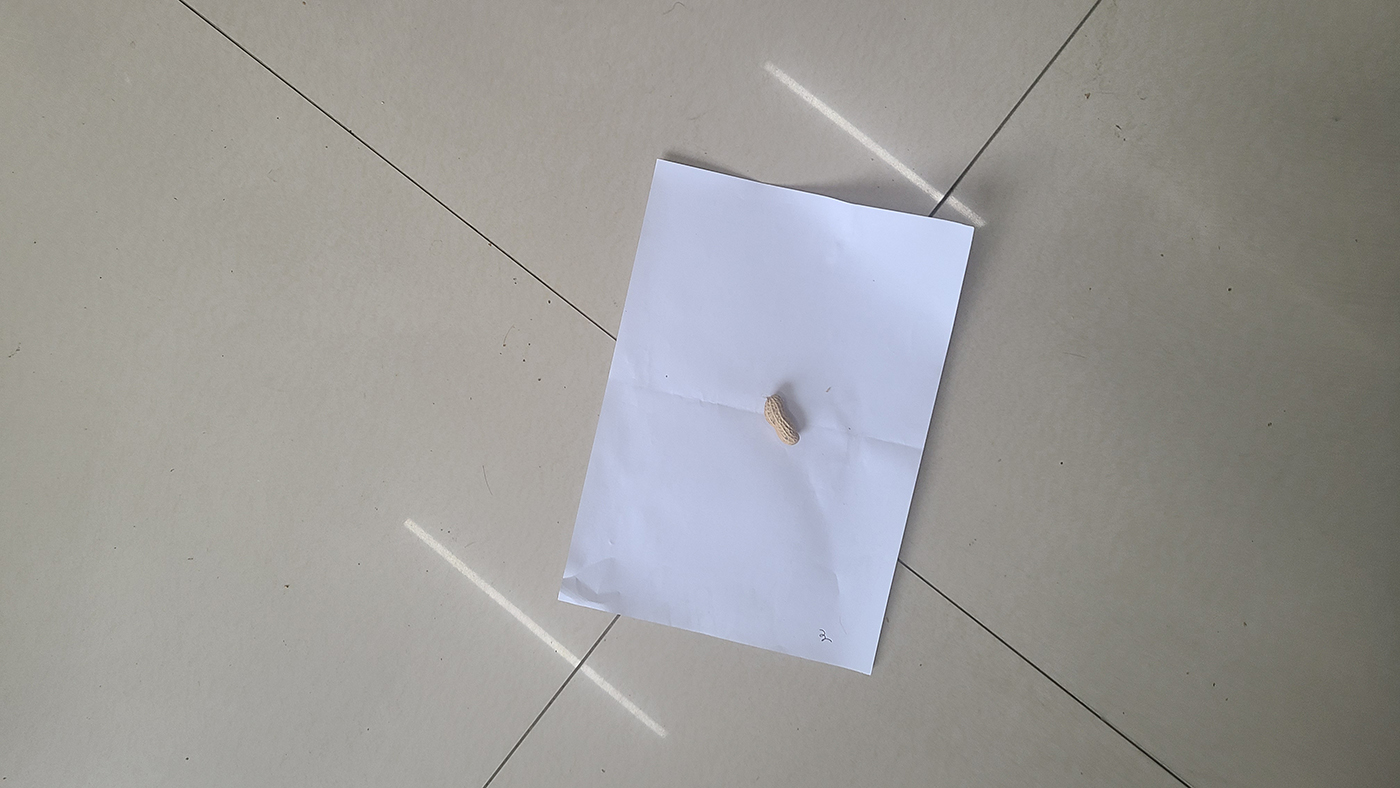h: (763, 394, 800, 446)
